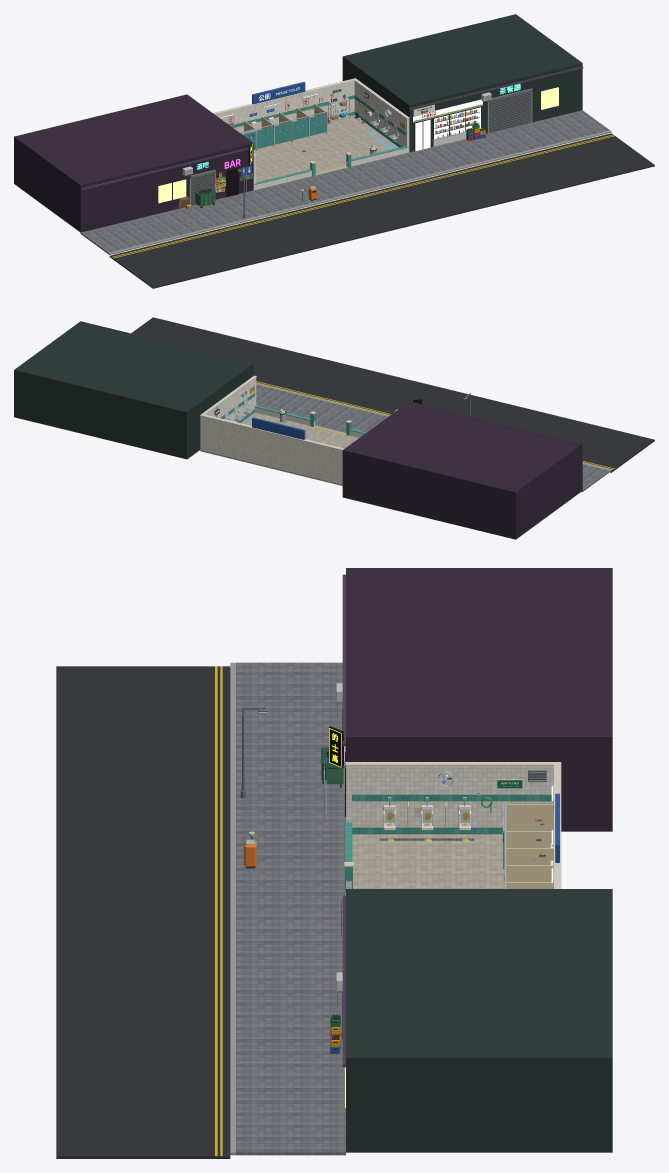
File: level_coed.glb
3 renders of one model, top to bottom at view 1: azimuth 30°, elevation 25°; view 2: azimuth 150°, elevation 25°; view 3: azimuth 270°, elevation 25°, orthographic. The views are drawn at different scales.
Parts seen in each view (by area): view 1: neighbours, street, walls, floor, decor, stall_partitions, signage, supply; view 2: neighbours, street, walls, floor, signage, decor; view 3: street, neighbours, walls, floor, stall_partitions, decor.
Boxes of the visible parts, <box> form: neighbours: <box>14,14,583,232</box>; street: <box>80,110,654,288</box>; walls: <box>213,78,409,190</box>; floor: <box>253,115,398,182</box>; decor: <box>195,92,404,218</box>; stall_partitions: <box>240,103,327,150</box>; signage: <box>240,82,305,197</box>; supply: <box>328,88,349,123</box>; neighbours: <box>14,321,583,539</box>; street: <box>131,317,654,491</box>; walls: <box>200,375,366,484</box>; floor: <box>200,412,358,485</box>; signage: <box>252,417,305,439</box>; decor: <box>214,386,470,435</box>; street: <box>56,662,345,1158</box>; neighbours: <box>329,568,612,1152</box>; walls: <box>344,761,561,891</box>; floor: <box>352,834,504,888</box>; stall_partitions: <box>503,801,553,888</box>; decor: <box>240,707,553,895</box>.
Bounding box in the file's own units: 40 × 3.92 × 19.2.
Materials: 104 (5 with a texture image).
